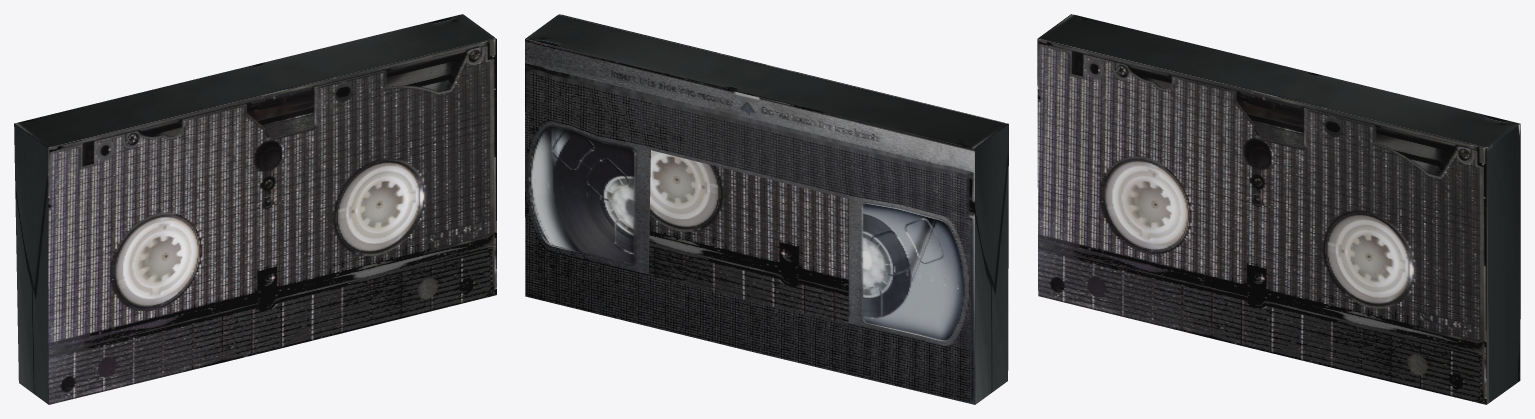
Rendered from vhs.glb.
3 views of the same model, side by side, from view 1: azimuth 30°, elevation 25°; view 2: azimuth 150°, elevation 25°; view 3: azimuth 330°, elevation 25° (orthographic).
Visible parts, largest first — view 1: vhs; view 2: vhs; view 3: vhs.
Boxes of the visible parts, x1,y1,x2,y2 form: vhs: (14, 14, 496, 404); vhs: (525, 14, 1008, 404); vhs: (1037, 14, 1520, 404).
Size of the model in its own units: 8.87 by 4.87 by 1.16.
1 material, 1 textured.
